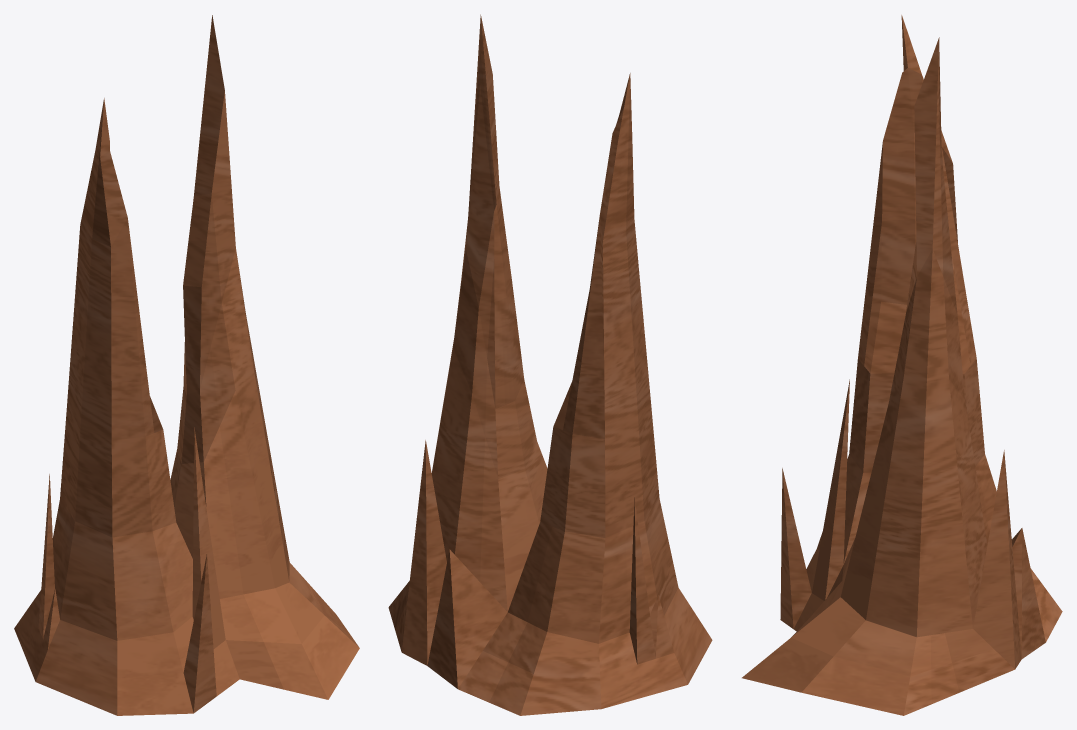
Rendered from stalactite.fbx.
3 views of the same model, side by side, from view 1: azimuth 30°, elevation 25°; view 2: azimuth 150°, elevation 25°; view 3: azimuth 270°, elevation 25° (orthographic). The views are drawn at different scales.
Parts seen in each view (by area): view 1: Cube.001; view 2: Cube.001; view 3: Cube.001.
Part boxes in pixels (box(x1,y1,x2,y2)): Cube.001: box(14, 15, 359, 715); Cube.001: box(388, 14, 712, 715); Cube.001: box(742, 15, 1062, 715).
Size of the model in its own units: 284 by 569 by 262.
1 material, 1 textured.
